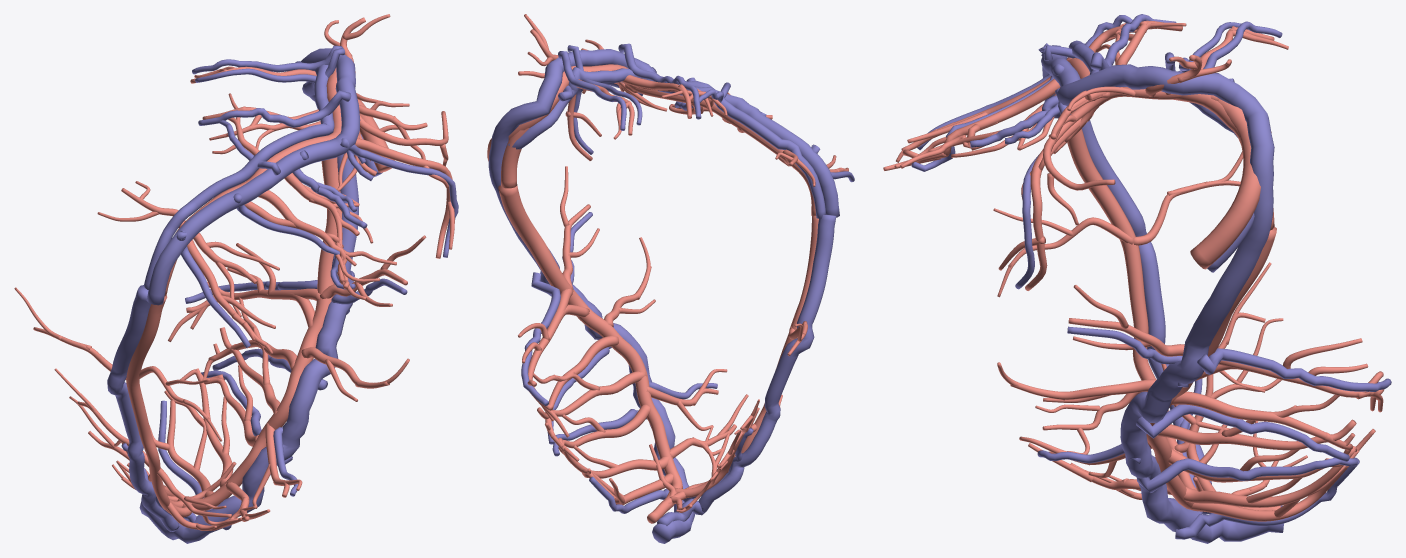
File: vessels_23.glb
3 renders of one model, left to right at view 1: azimuth 30°, elevation 25°; view 2: azimuth 150°, elevation 25°; view 3: azimuth 270°, elevation 25°, orthographic. The views are drawn at different scales.
Visible parts, largest first — view 1: Renderer Node; view 2: Renderer Node; view 3: Renderer Node.
Part boxes in pixels (bbox=[...]): Renderer Node: bbox=[14, 14, 458, 543]; Renderer Node: bbox=[487, 14, 854, 543]; Renderer Node: bbox=[883, 14, 1391, 543].
Bounding box in the file's own units: 85.61 × 111 × 85.82.
